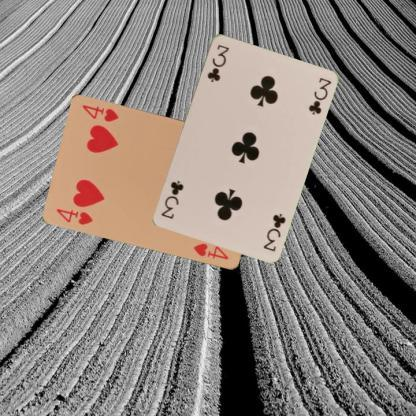3c: (260, 210, 288, 252), (204, 42, 230, 84)
4h: (54, 206, 94, 226)
